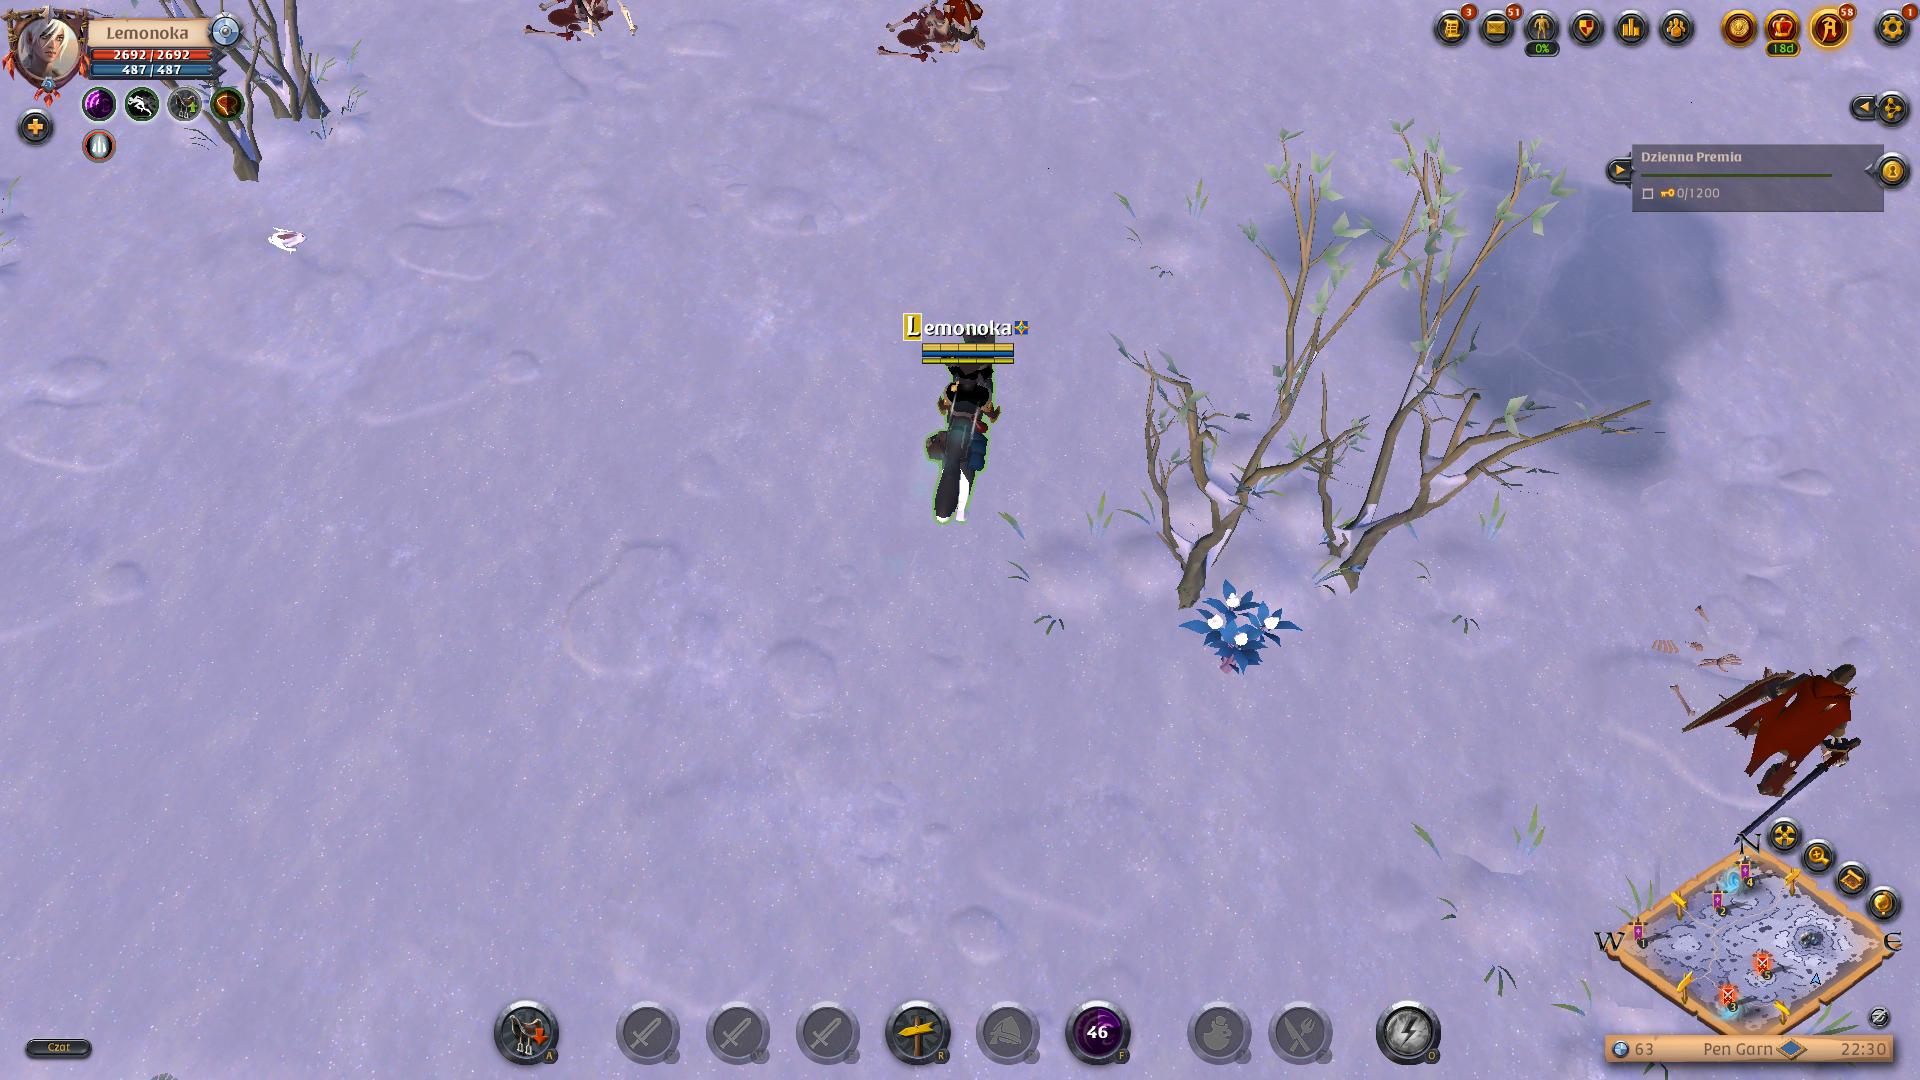fiber tier 4: (1180, 576, 1303, 683)
